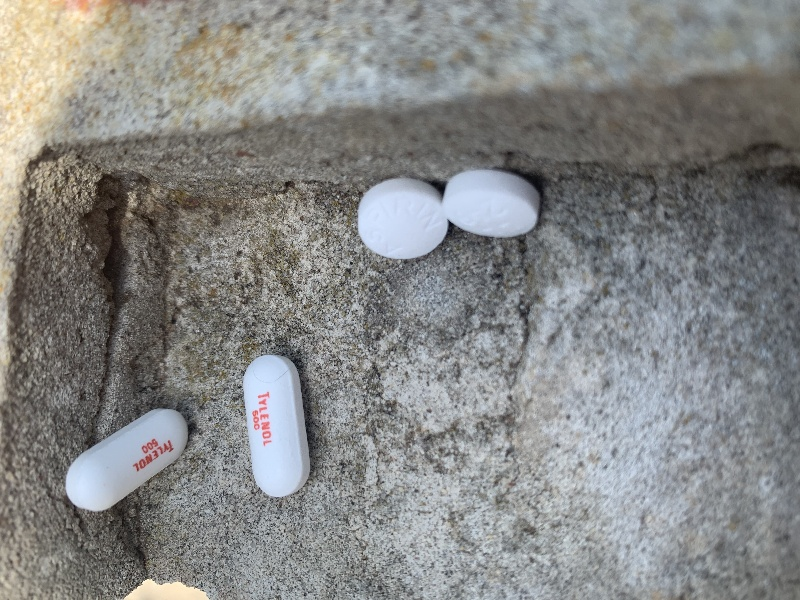Aspirin: (351, 174, 448, 262), (440, 165, 542, 241)
Tylenol: (62, 406, 195, 515), (240, 353, 316, 500)
